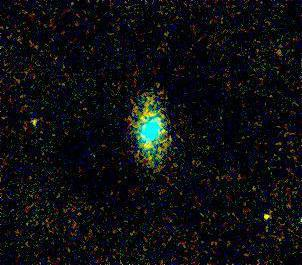star: (251, 201, 281, 231)
